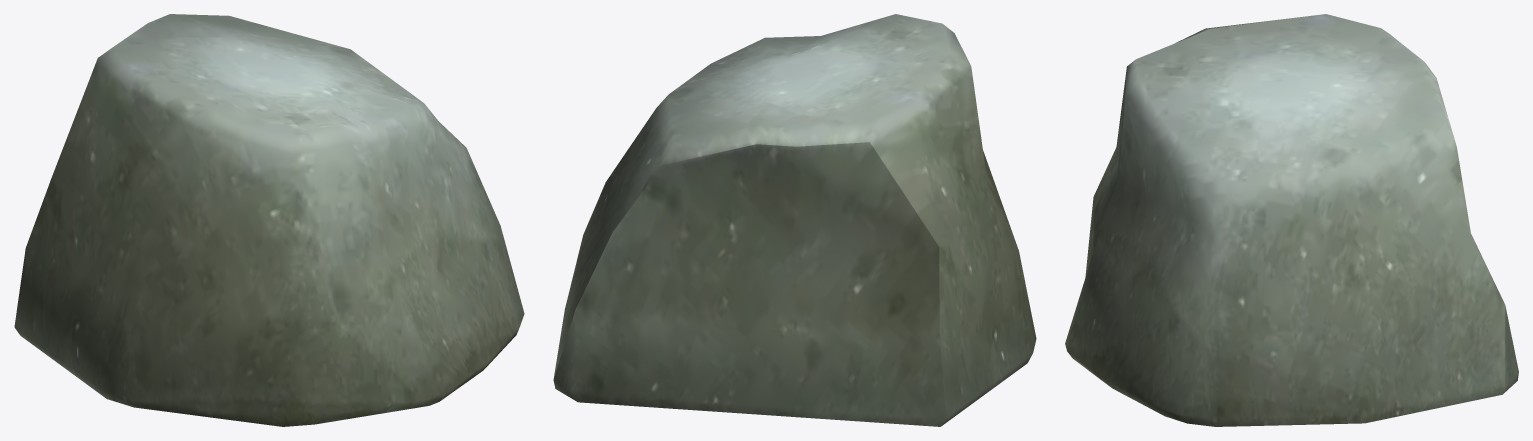
File: rock-d.glb
The picture shows the model from 3 angles, left to right: view 1: azimuth 30°, elevation 25°; view 2: azimuth 150°, elevation 25°; view 3: azimuth 270°, elevation 25°; orthographic projection. The views are drawn at different scales.
Parts seen in each view (by area): view 1: StoneD_node1; view 2: StoneD_node1; view 3: StoneD_node1.
Part boxes in pixels (<box>): StoneD_node1: <box>14,14,524,426</box>; StoneD_node1: <box>553,14,1036,426</box>; StoneD_node1: <box>1065,14,1518,426</box>.
Size of the model in its own units: 0.9441 by 0.6279 by 0.9831.
1 material, 1 textured.
